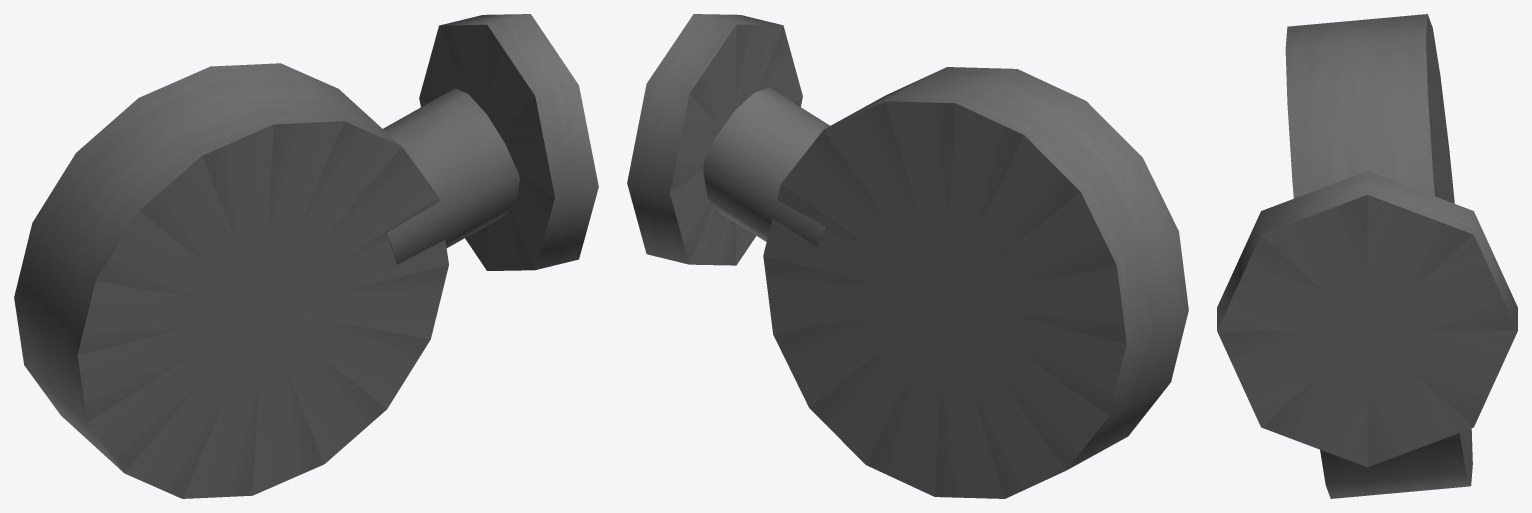
Rendered from mastarmcurve_10x2_c9_east.obj.
3 renders of one model, left to right at view 1: azimuth 30°, elevation 25°; view 2: azimuth 150°, elevation 25°; view 3: azimuth 270°, elevation 25°, orthographic. The views are drawn at different scales.
Visible parts, largest first — view 1: mastarm_10x2_c9_east; view 2: mastarm_10x2_c9_east; view 3: mastarm_10x2_c9_east.
Boxes of the visible parts, x1,y1,x2,y2 form: mastarm_10x2_c9_east: (14,14,598,498); mastarm_10x2_c9_east: (627,14,1188,498); mastarm_10x2_c9_east: (1217,14,1517,498).
Bounding box in the file's own units: 0.8149 × 0.6467 × 0.4.
